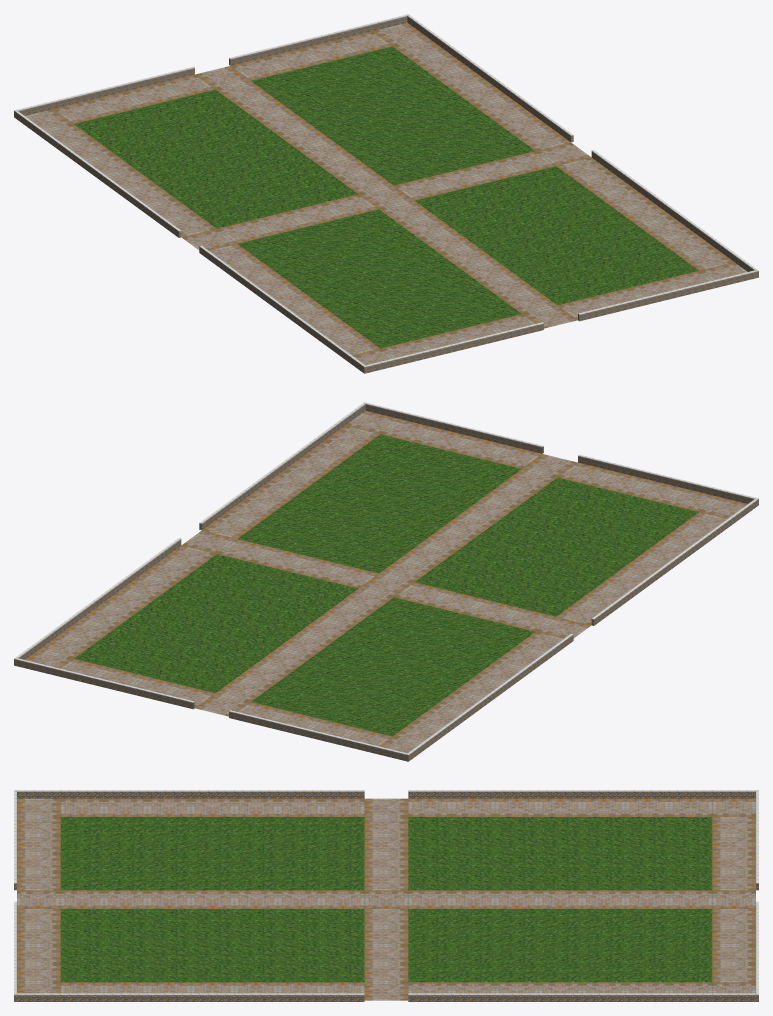
Rendered from UDC_Park.obj.
3 renders of one model, top to bottom at view 1: azimuth 30°, elevation 25°; view 2: azimuth 150°, elevation 25°; view 3: azimuth 270°, elevation 25°, orthographic. The views are drawn at different scales.
Visible parts, largest first — view 1: UDC_Park; view 2: UDC_Park; view 3: UDC_Park.
Boxes of the visible parts, x1,y1,x2,y2 form: UDC_Park: [14, 14, 758, 373]; UDC_Park: [14, 402, 758, 761]; UDC_Park: [14, 790, 758, 1001].
Size of the model in its own units: 21.93 by 0.3661 by 33.74.
Materials: 4 (4 with a texture image).
